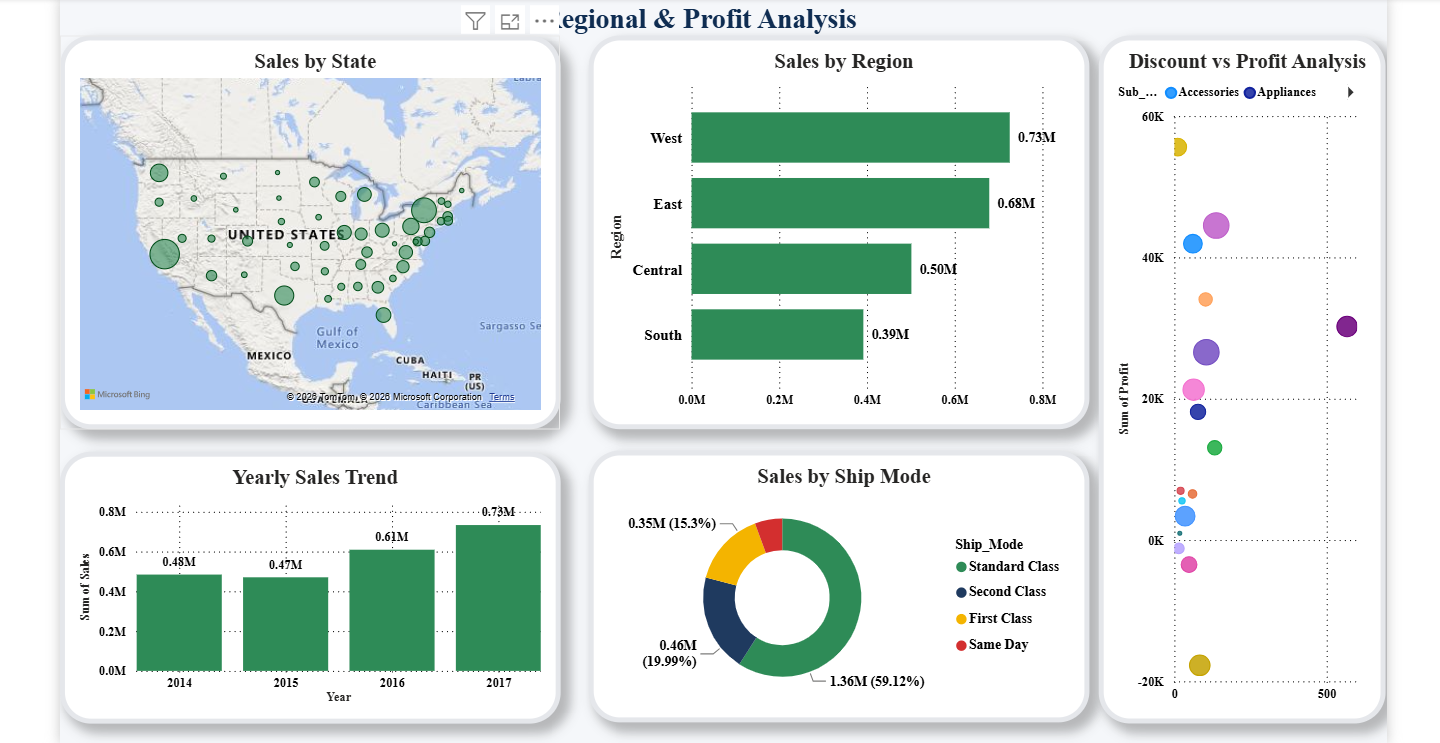

The dashboard page shown, as its layout file describes it:
{"tool":"powerbi","page":{"name":"Regional & Profit Analysis","canvas":[1280,720],"ordinal":2},"visuals":[{"type":"textbox","box":[367.8,0,498.1,71.4],"z":0},{"type":"map","title":"Sales by State","fields":{"Category":["sales_dashboard_analysis superstore.State"],"Size":["Sum(sales_dashboard_analysis superstore.Sales)"]},"box":[0,35.7,483,380.1],"z":1000},{"type":"clusteredBarChart","title":"Sales by Region","fields":{"Category":["sales_dashboard_analysis superstore.Region"],"Y":["Sum(sales_dashboard_analysis superstore.Sales)"]},"box":[510.5,35.7,483,380.1],"z":2000},{"type":"donutChart","title":"Sales by Ship Mode","fields":{"Category":["sales_dashboard_analysis superstore.Ship_Mode"],"Y":["Sum(sales_dashboard_analysis superstore.Sales)"]},"box":[510.5,436.4,483,262.1],"z":3000},{"type":"clusteredColumnChart","title":"Yearly Sales Trend","fields":{"Category":["sales_dashboard_analysis superstore.Order_Date.Variation.Date Hierarchy.Year"],"Y":["Sum(sales_dashboard_analysis superstore.Sales)"]},"box":[0,437.7,483,262.1],"z":4000},{"type":"scatterChart","title":"Discount vs Profit Analysis","fields":{"X":["Sum(sales_dashboard_analysis superstore.Discount)"],"Y":["Sum(sales_dashboard_analysis superstore.Profit)"],"Size":["Sum(sales_dashboard_analysis superstore.Sales)"],"Series":["sales_dashboard_analysis superstore.Sub_Category"]},"box":[1003.1,35.7,277.2,664.2],"z":5000}]}

Visuals, with their boxes on the page's 1280x720 design canvas (x1, y1, x2, y2). These are canvas units, not pixel positions in the 1440x743 screenshot, which may show the page scaled, cropped or inside an application window:
textbox: {"x1": 368, "y1": 0, "x2": 866, "y2": 71}
"Sales by State" map: {"x1": 0, "y1": 36, "x2": 483, "y2": 416}
"Sales by Region" clusteredBarChart: {"x1": 510, "y1": 36, "x2": 994, "y2": 416}
"Sales by Ship Mode" donutChart: {"x1": 510, "y1": 436, "x2": 994, "y2": 698}
"Yearly Sales Trend" clusteredColumnChart: {"x1": 0, "y1": 438, "x2": 483, "y2": 700}
"Discount vs Profit Analysis" scatterChart: {"x1": 1003, "y1": 36, "x2": 1280, "y2": 700}
